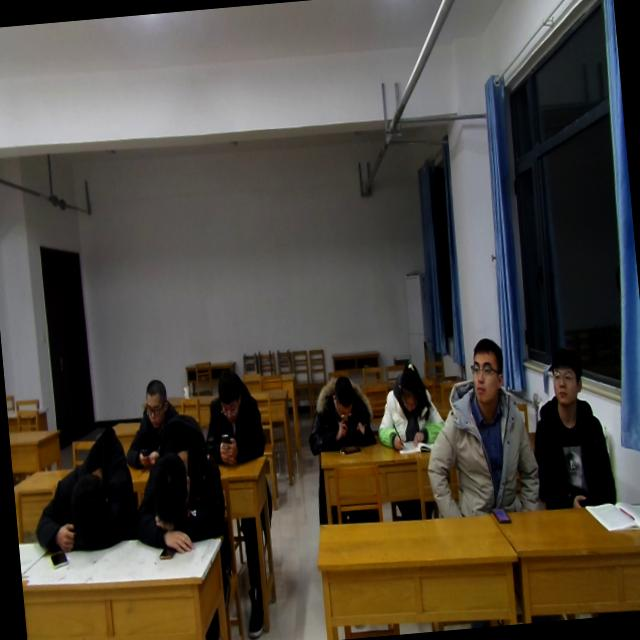bow: (26, 419, 134, 554), (125, 422, 232, 556)
down: (212, 362, 248, 429), (138, 372, 172, 431), (392, 358, 425, 416), (324, 370, 358, 424)
lookup: (465, 334, 508, 404), (544, 343, 584, 407)
sit: (418, 331, 542, 520), (524, 342, 618, 512), (302, 359, 378, 462), (372, 352, 445, 456), (196, 366, 268, 468), (120, 375, 192, 458)
